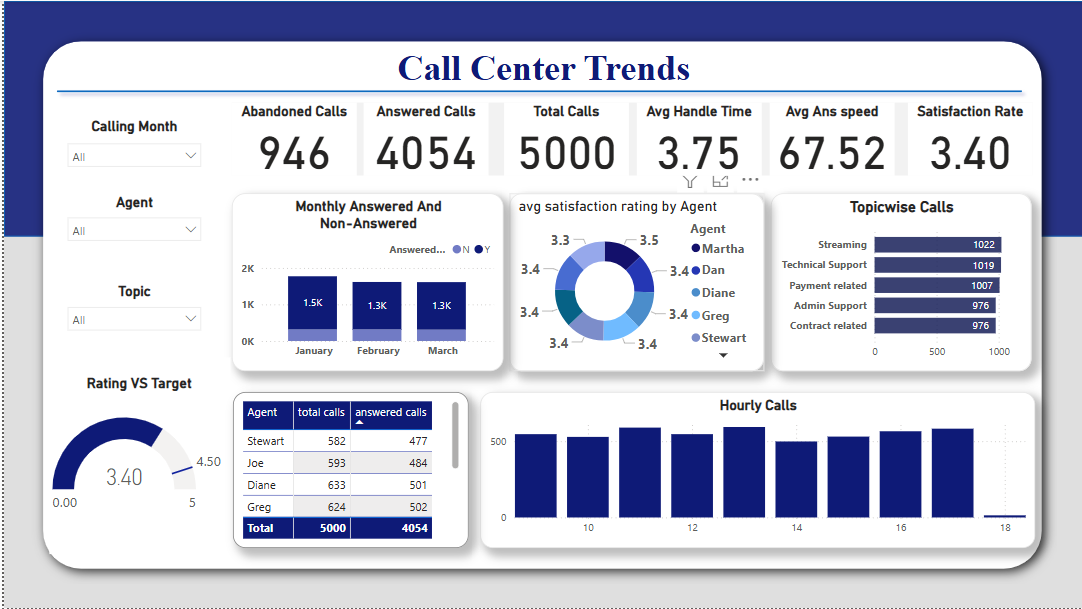

This screenshot's page, from the dashboard's own definition file:
{"tool":"powerbi","page":{"name":"call center","canvas":[1280,720],"ordinal":0},"visuals":[{"type":"shape","box":[0,0,1280.3,279.4],"z":0},{"type":"card","title":"Total Calls","fields":{"Values":["calculations.total calls"]},"box":[593.2,120.4,148,87.2],"z":0,"group":"g1"},{"type":"card","title":"Answered Calls","fields":{"Values":["calculations.answered calls"]},"box":[427.3,120.4,148,87.2],"z":1000,"group":"g1"},{"type":"shape","box":[28.1,29.6,1221.1,662.3],"z":1000},{"type":"card","title":"Abandoned Calls","fields":{"Values":["calculations.abandoned calls"]},"box":[270.4,120.4,148,87.2],"z":2000,"group":"g1"},{"type":"barChart","title":"Topicwise Calls","fields":{"Category":["Call center.Topic"],"Y":["calculations.total calls"]},"box":[909.2,227.7,309,211.4],"z":2000},{"type":"card","title":"Avg Handle Time","fields":{"Values":["calculations.avg handle time"]},"box":[751.4,120.4,148,87.2],"z":3000,"group":"g1"},{"type":"donutChart","fields":{"Category":["Call center.Agent"],"Y":["calculations.avg satisfaction rating"]},"box":[600.2,227.7,301.6,211.4],"z":3000},{"type":"card","title":"Avg Ans speed","fields":{"Values":["calculations.avg ans speed"]},"box":[908.4,120.4,148,87.2],"z":4000,"group":"g1"},{"type":"columnChart","title":"Monthly Answered And Non-Answered","fields":{"Category":["Call center.Date.Variation.Date Hierarchy.Month"],"Series":["Call center.Answered (Y/N)"],"Y":["Call center.Answered (Y/N)"]},"box":[270.5,227.7,322.3,211.4],"z":4000},{"type":"card","title":"Satisfaction Rate","fields":{"Values":["calculations.avg satisfaction rating"]},"box":[1073,120.4,148,87.2],"z":5000,"group":"g1"},{"type":"gauge","title":"Rating VS Target","fields":{"TargetValue":["calculations.target rating"],"Y":["calculations.avg satisfaction rating"],"MaxValue":["calculations.max rating"]},"box":[54,423,214.4,233.6],"z":5000},{"type":"group","id":"g1","title":"Group 1","box":[270.4,120.4,950.7,87.1],"z":6000},{"type":"slicer","title":"Agent","fields":{"Values":["Call center.Agent"]},"box":[65,227.7,178.9,82.8],"z":7000},{"type":"slicer","title":"Topic","fields":{"Values":["Call center.Topic"]},"box":[65,334.1,178.9,69.5],"z":8000},{"type":"clusteredColumnChart","title":"Hourly Calls","fields":{"Category":["Call center.call hours"],"Y":["Call center.Call Id"]},"box":[564.7,464.2,657.9,184.8],"z":9000},{"type":"textbox","box":[177.4,50.3,926.9,79.8],"z":10000},{"type":"tableEx","fields":{"Values":["Call center.Agent","calculations.total calls","calculations.answered calls"]},"box":[272,464.2,279.4,184.8],"z":11000},{"type":"slicer","title":"Calling Month","fields":{"Values":["Call center.calling month"]},"box":[65,139,178.9,69.5],"z":12000},{"type":"shape","box":[54.3,50,1162.9,114.3],"z":13000}]}

Visuals, with their boxes in screenshot pixels (x1, y1, x2, y2), scaled from the page's 1280x720 canvas onto the 1082x609 screenshot:
shape: locate(0, 0, 1081, 236)
"Total Calls" card: locate(501, 102, 627, 176)
"Answered Calls" card: locate(361, 102, 486, 176)
shape: locate(24, 25, 1056, 585)
"Abandoned Calls" card: locate(229, 102, 354, 176)
"Topicwise Calls" barChart: locate(769, 193, 1030, 371)
"Avg Handle Time" card: locate(635, 102, 760, 176)
donutChart - Call center.Agent x calculations.avg satisfaction rating: locate(507, 193, 762, 371)
"Avg Ans speed" card: locate(768, 102, 893, 176)
"Monthly Answered And Non-Answered" columnChart: locate(229, 193, 501, 371)
"Satisfaction Rate" card: locate(907, 102, 1032, 176)
"Rating VS Target" gauge: locate(46, 358, 227, 555)
"Group 1" group: locate(229, 102, 1032, 176)
"Agent" slicer: locate(55, 193, 206, 263)
"Topic" slicer: locate(55, 283, 206, 341)
"Hourly Calls" clusteredColumnChart: locate(477, 393, 1033, 549)
textbox: locate(150, 43, 933, 110)
tableEx - Call center.Agent x calculations.total calls: locate(230, 393, 466, 549)
"Calling Month" slicer: locate(55, 118, 206, 176)
shape: locate(46, 42, 1029, 139)
